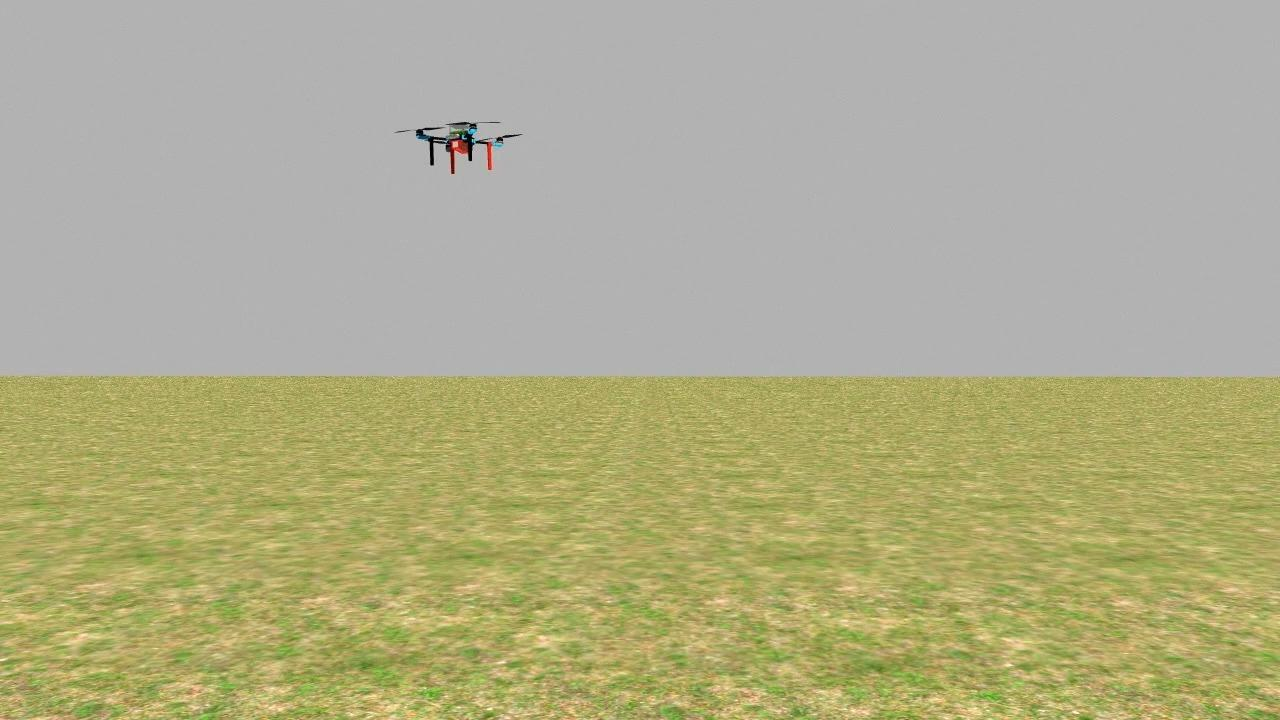UAV: (388, 100, 526, 186)
